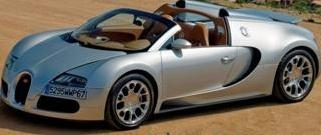front_view: (0, 46, 92, 122)
headlight: (48, 70, 91, 90)
